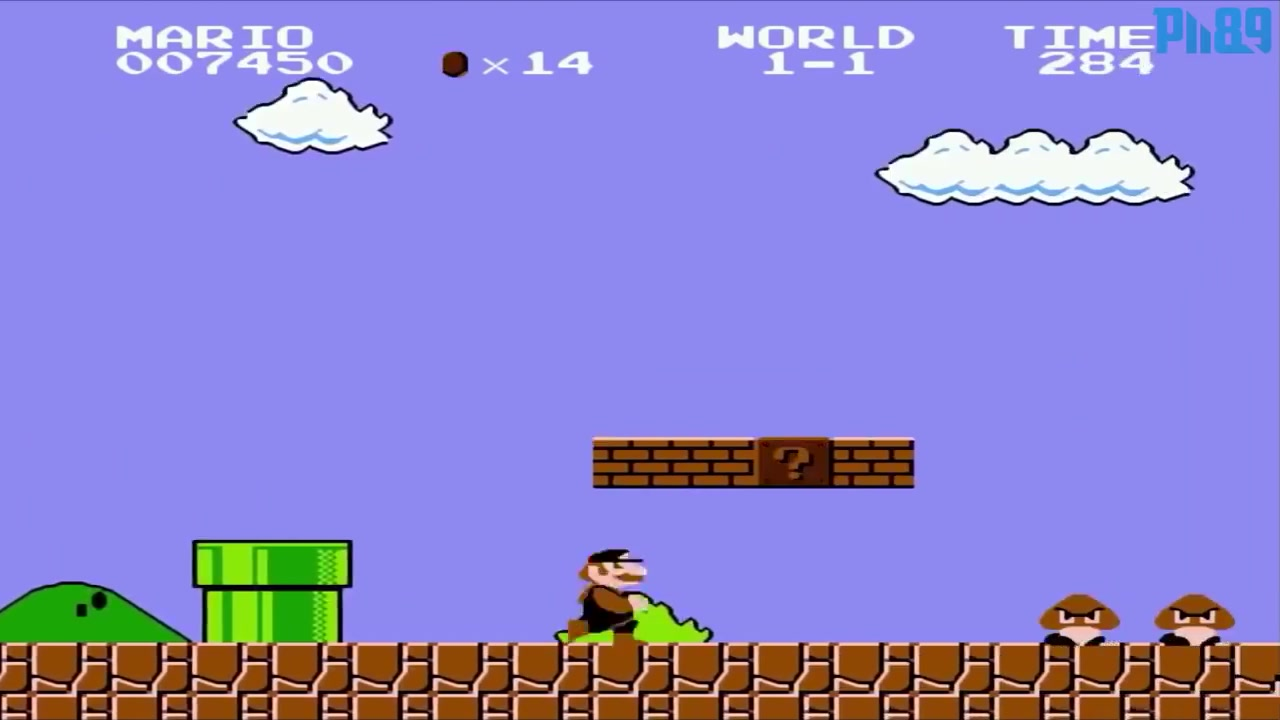mario: (564, 543, 652, 642)
